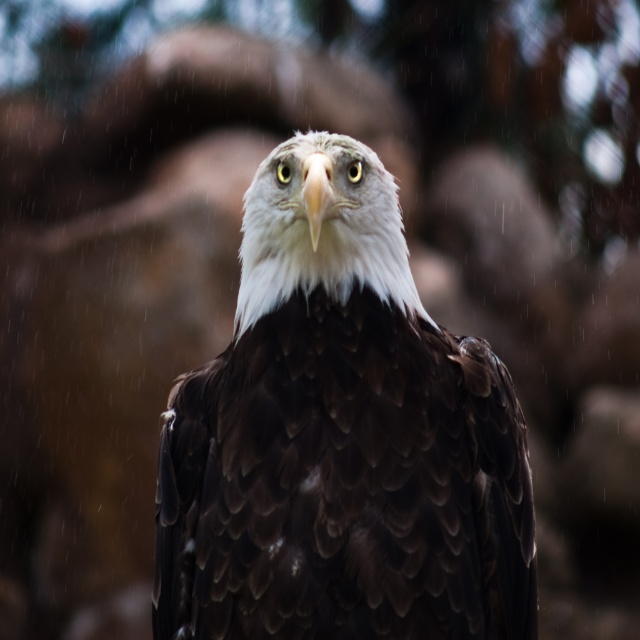Eagle: (152, 129, 537, 640)
